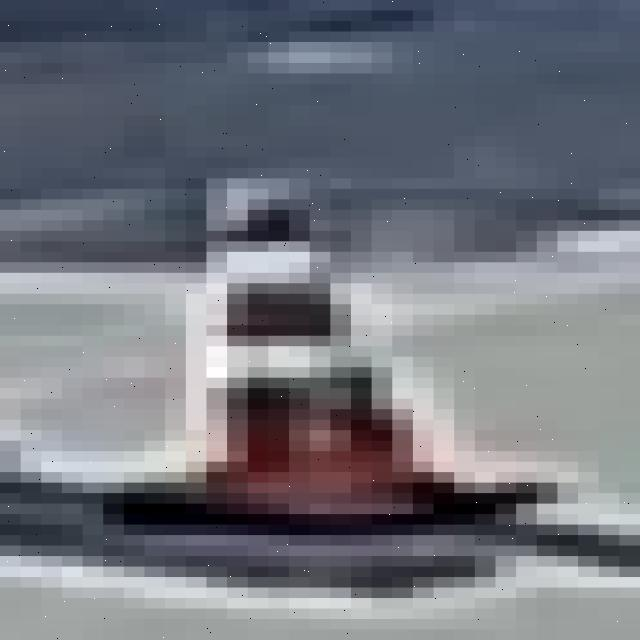small_cone: (202, 189, 400, 520)
